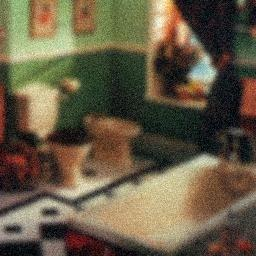Sanitario: (21, 84, 94, 194), (90, 111, 149, 173)
